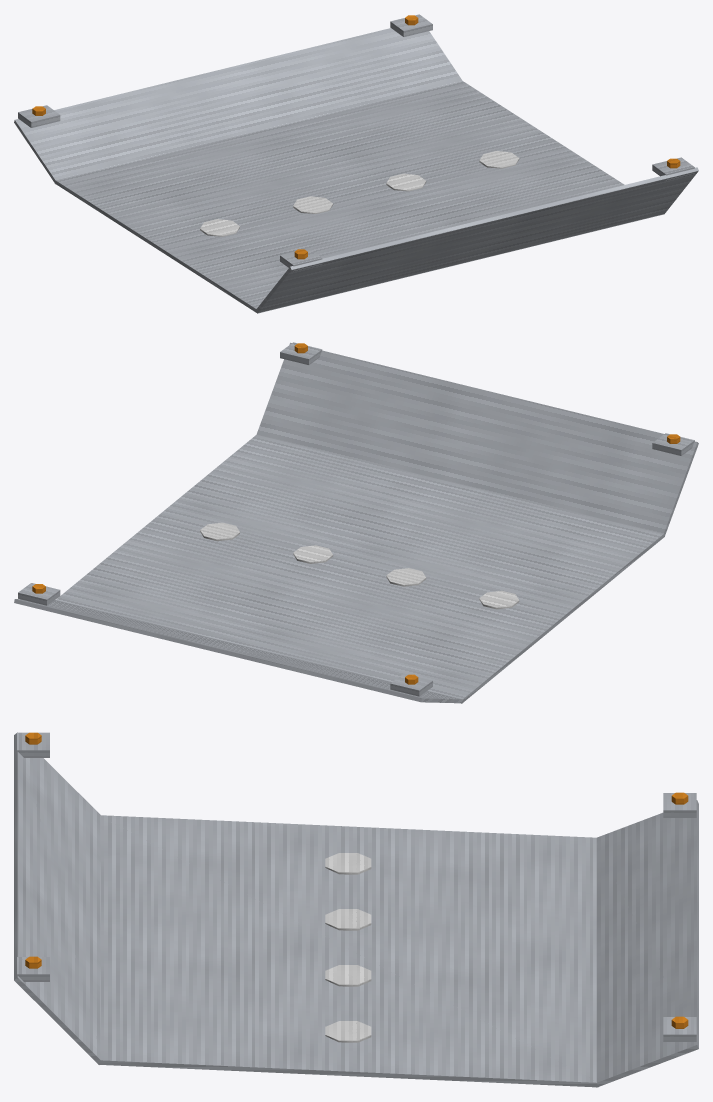
The model's file is protetor_n3.glb.
The picture shows the model from 3 angles, top to bottom: view 1: azimuth 30°, elevation 25°; view 2: azimuth 150°, elevation 25°; view 3: azimuth 270°, elevation 25°; orthographic projection. The views are drawn at different scales.
Parts seen in each view (by area): view 1: protetor_n3; view 2: protetor_n3; view 3: protetor_n3.
Part boxes in pixels (box(x1,y1,x2,y2)): protetor_n3: box(14, 14, 698, 313); protetor_n3: box(14, 342, 698, 703); protetor_n3: box(14, 732, 698, 1087).
Size of the model in its own units: 0.7 by 0.1565 by 0.8266.
2 materials, 2 textured.
